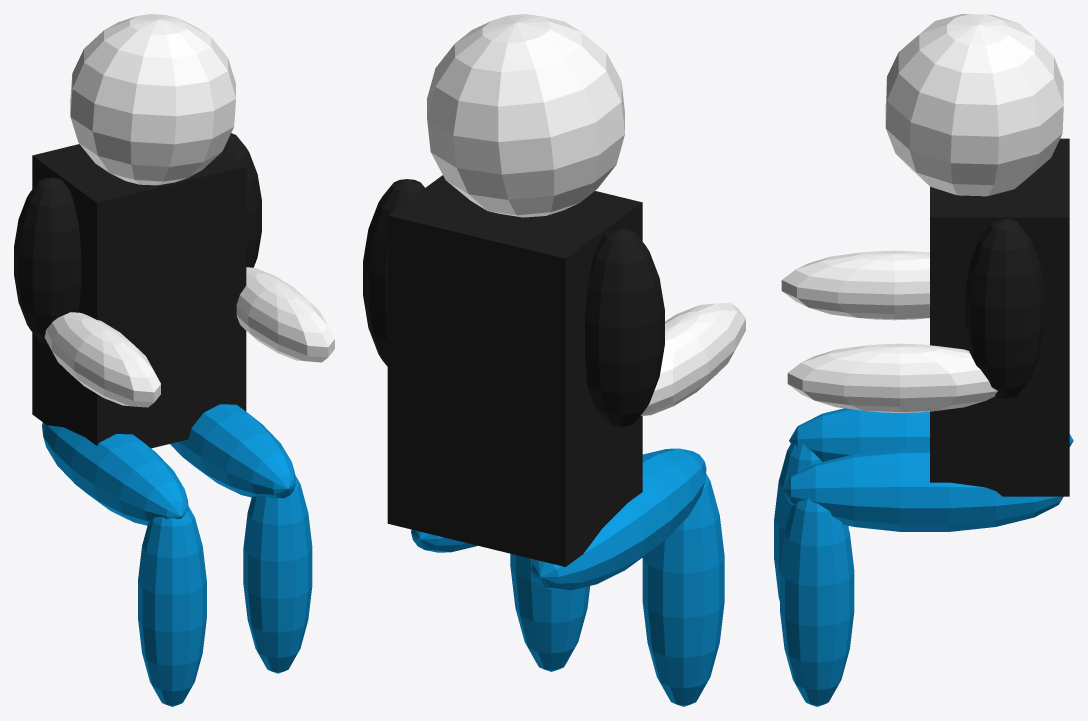
3 renders of one model, left to right at view 1: azimuth 30°, elevation 25°; view 2: azimuth 150°, elevation 25°; view 3: azimuth 270°, elevation 25°, orthographic. The views are drawn at different scales.
Visible parts, largest first — view 1: mesh_1938331033, mesh_1848476164, mesh_1356943082, mesh_1212445059, mesh_714209670, mesh_1999110677, mesh_342228261, mesh_1845521662, mesh_1258093505, mesh_490400063; view 2: mesh_1938331033, mesh_1848476164, mesh_1356943082, mesh_1999110677, mesh_714209670, mesh_1845521662, mesh_1212445059, mesh_490400063, mesh_342228261; view 3: mesh_1938331033, mesh_1848476164, mesh_342228261, mesh_1212445059, mesh_1258093505, mesh_490400063, mesh_1845521662, mesh_714209670, mesh_1356943082.
Part boxes in pixels (left/top/right/bottom): mesh_1938331033: left=32, top=144, right=246, bottom=448; mesh_1848476164: left=70, top=14, right=235, bottom=185; mesh_1356943082: left=138, top=505, right=206, bottom=706; mesh_1212445059: left=243, top=474, right=312, bottom=673; mesh_714209670: left=42, top=422, right=188, bottom=525; mesh_1999110677: left=14, top=177, right=81, bottom=343; mesh_342228261: left=170, top=404, right=295, bottom=498; mesh_1845521662: left=44, top=312, right=160, bottom=407; mesh_1258093505: left=236, top=267, right=334, bottom=362; mesh_490400063: left=223, top=133, right=261, bottom=267; mesh_1938331033: left=387, top=175, right=642, bottom=566; mesh_1848476164: left=427, top=14, right=624, bottom=217; mesh_1356943082: left=642, top=473, right=724, bottom=706; mesh_1999110677: left=585, top=228, right=664, bottom=426; mesh_714209670: left=531, top=448, right=706, bottom=590; mesh_1845521662: left=640, top=302, right=745, bottom=415; mesh_1212445059: left=510, top=553, right=590, bottom=671; mesh_490400063: left=363, top=179, right=424, bottom=366; mesh_342228261: left=411, top=529, right=477, bottom=552; mesh_1938331033: left=930, top=138, right=1069, bottom=496; mesh_1848476164: left=885, top=14, right=1063, bottom=196; mesh_342228261: left=782, top=449, right=1063, bottom=531; mesh_1212445059: left=780, top=497, right=854, bottom=706; mesh_1258093505: left=787, top=343, right=997, bottom=412; mesh_490400063: left=965, top=218, right=1044, bottom=398; mesh_1845521662: left=781, top=250, right=929, bottom=320; mesh_714209670: left=789, top=408, right=1073, bottom=461; mesh_1356943082: left=774, top=443, right=848, bottom=601.
Bounding box in the file's own units: 51.61 × 126 × 51.54.
